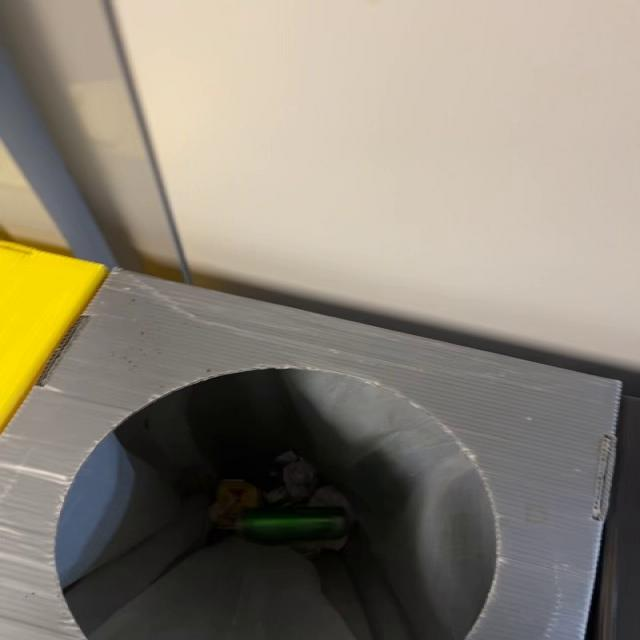bin: (1, 270, 621, 640)
metal: (239, 508, 348, 544)
